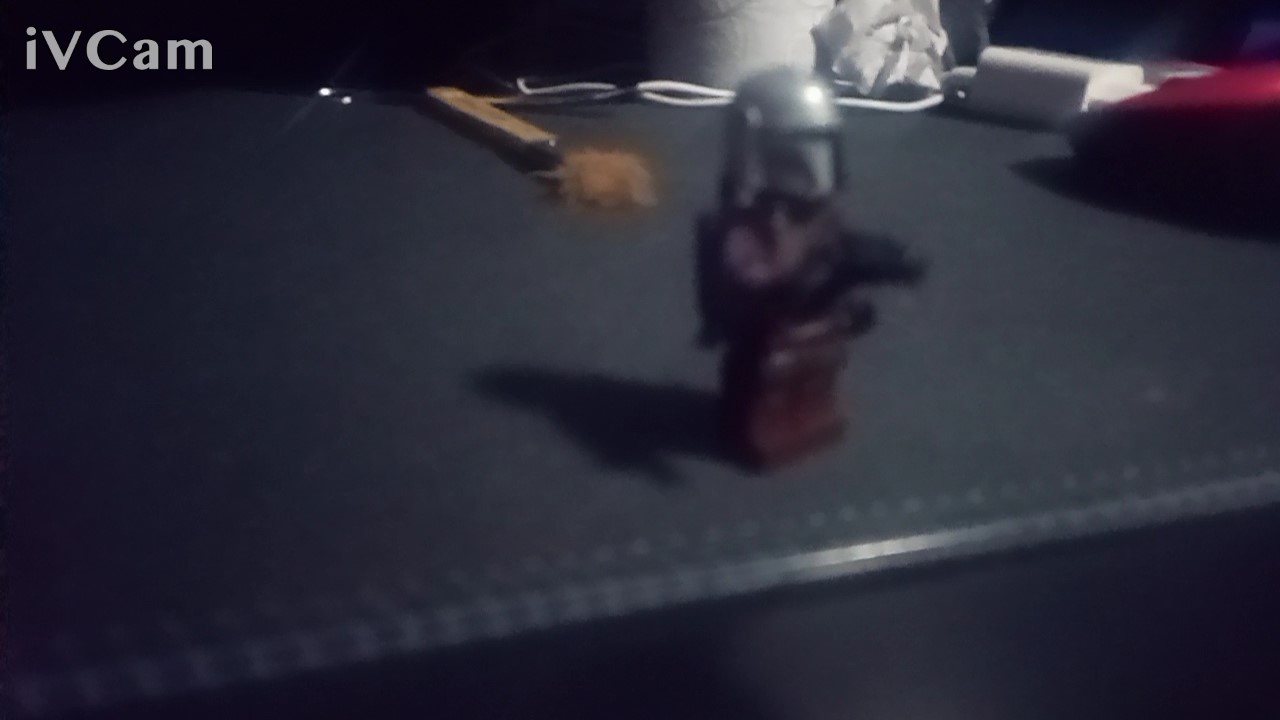mandalorian: (666, 42, 937, 488)
